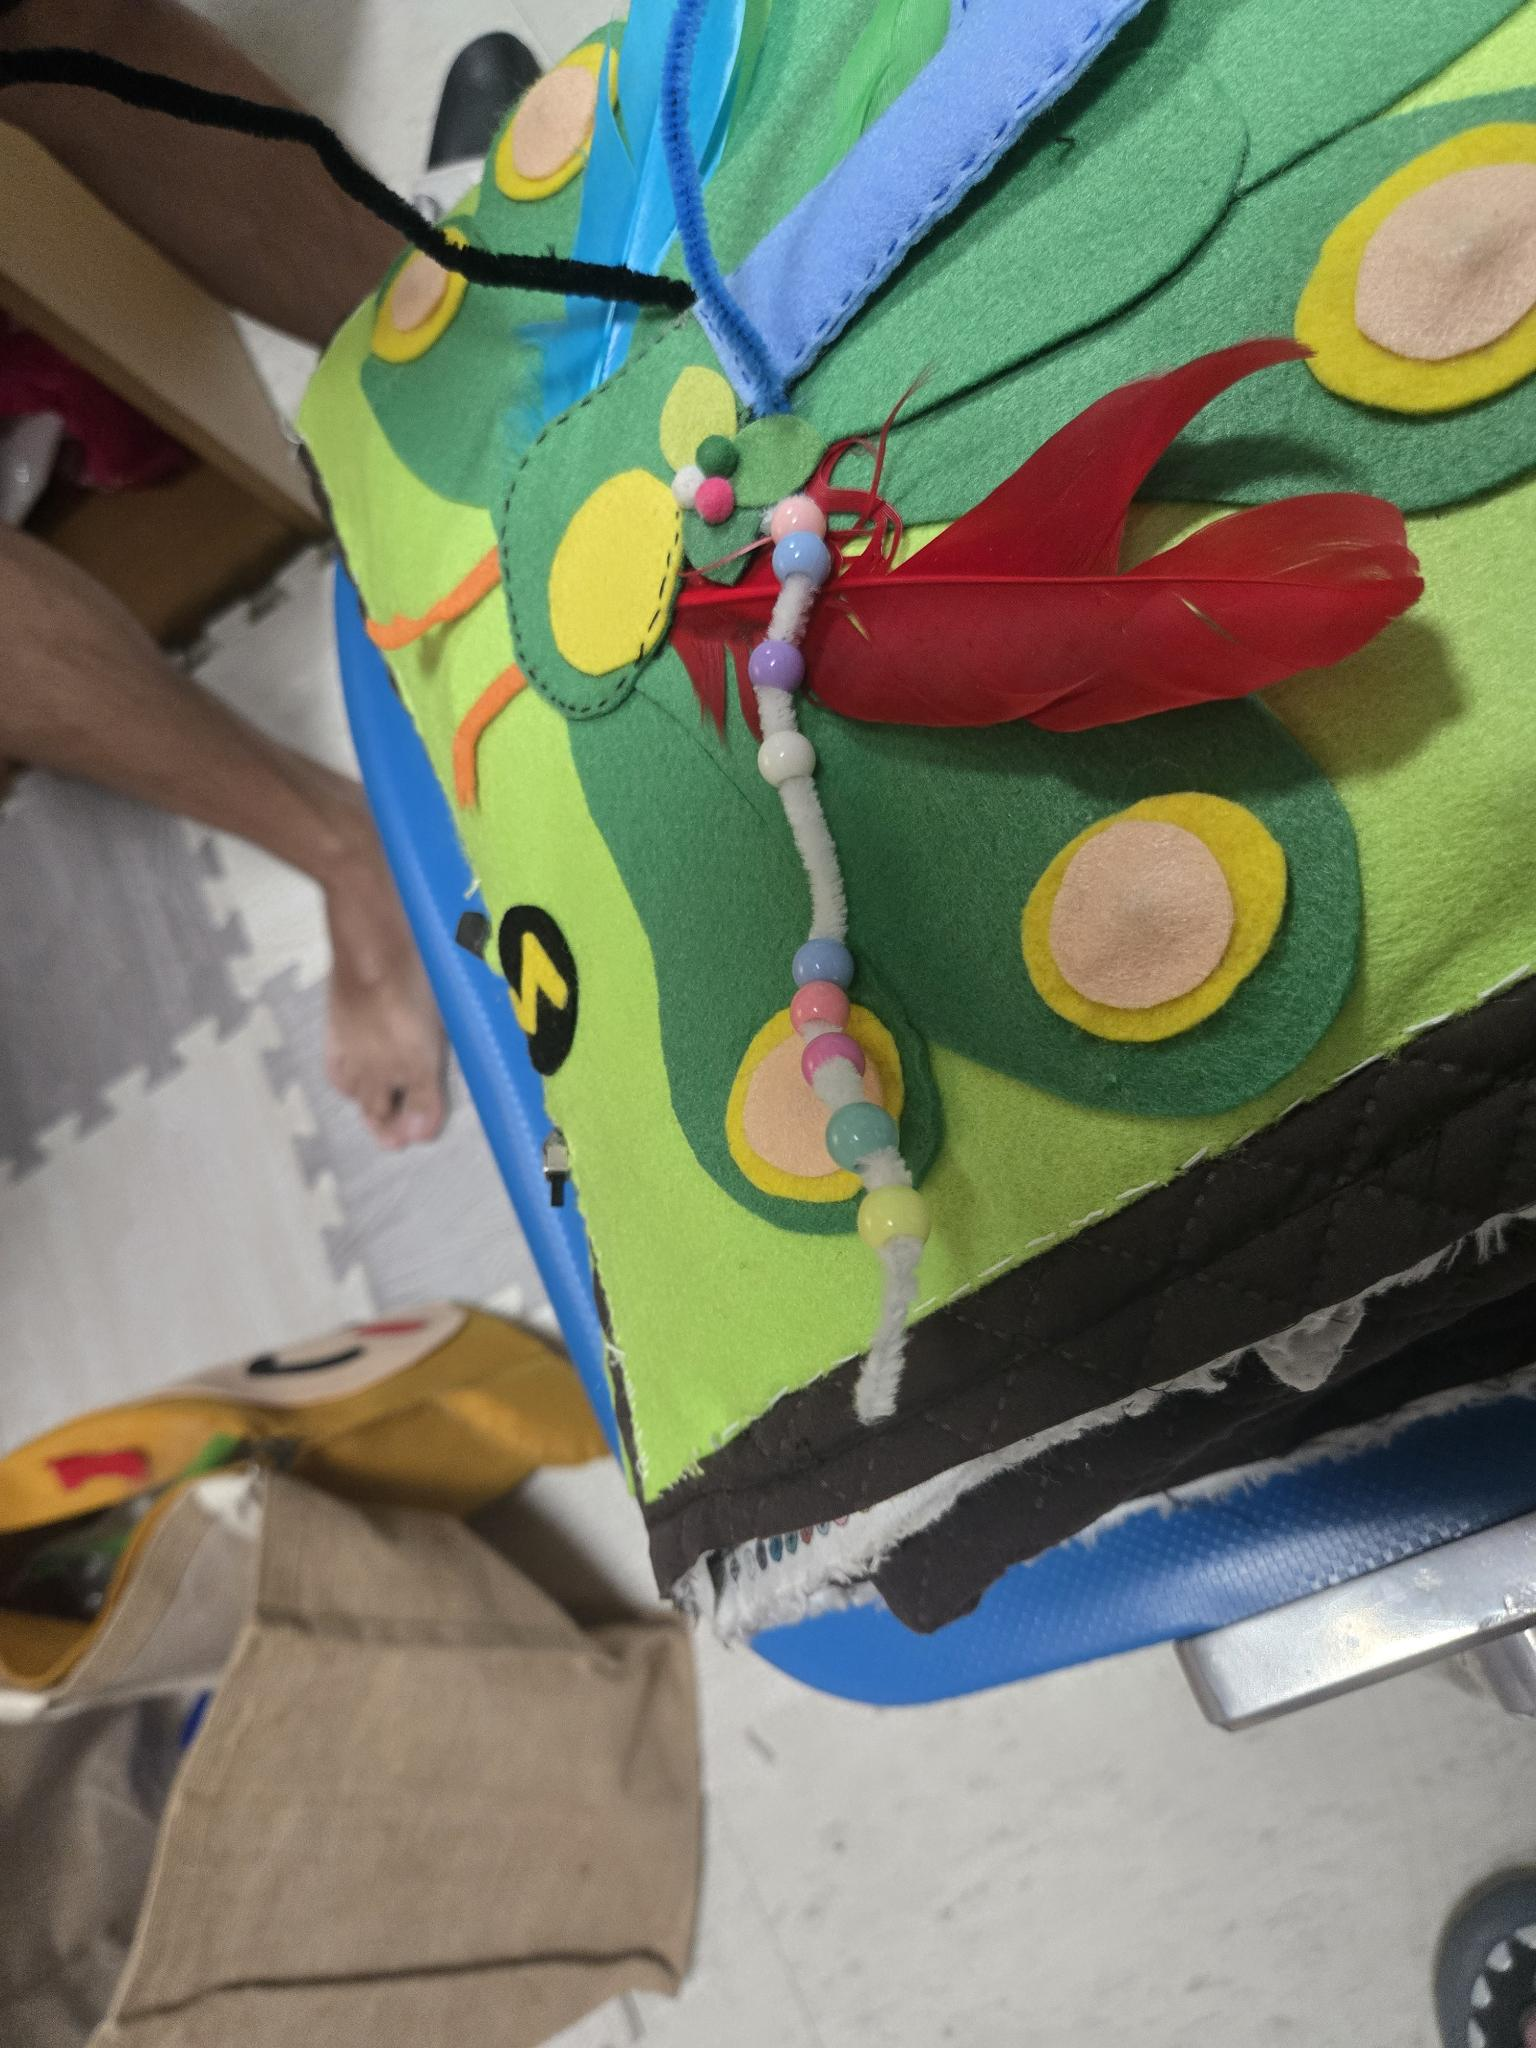bead: (845, 1164, 960, 1276), (815, 1092, 899, 1177), (773, 913, 866, 989), (737, 610, 813, 701), (744, 724, 821, 800), (800, 1030, 878, 1095), (779, 974, 857, 1034), (758, 524, 829, 584), (763, 468, 829, 531)
